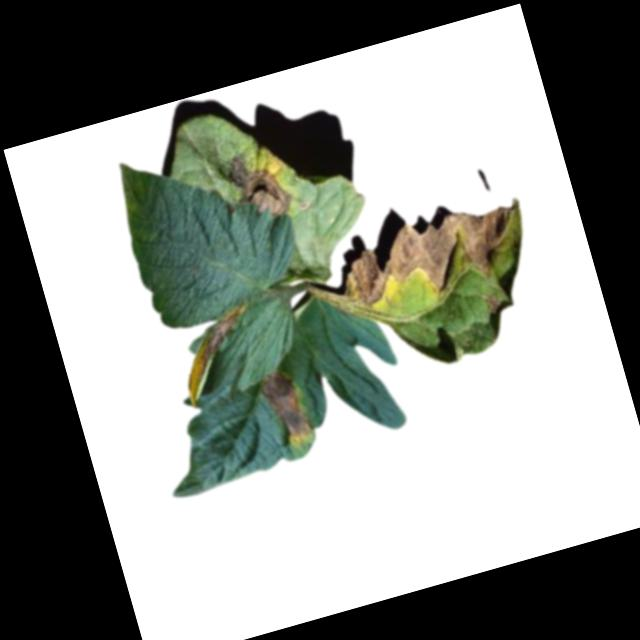Early_blight: (330, 191, 546, 318), (174, 309, 264, 400), (215, 144, 292, 230), (258, 367, 318, 449), (481, 291, 505, 316)
